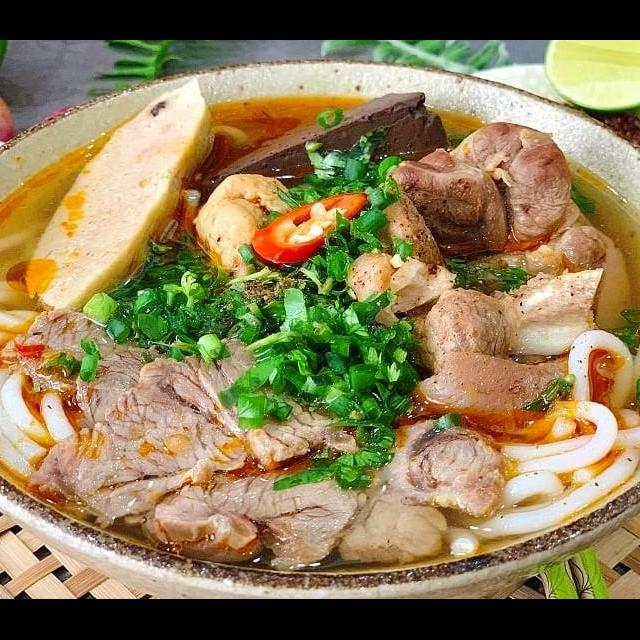bun: (447, 302, 640, 551), (0, 265, 91, 489)
bun bo: (0, 77, 640, 569)
thit bo: (17, 328, 358, 536), (131, 426, 395, 580), (323, 406, 515, 574), (0, 308, 200, 442)
thit heo: (374, 114, 578, 264)
